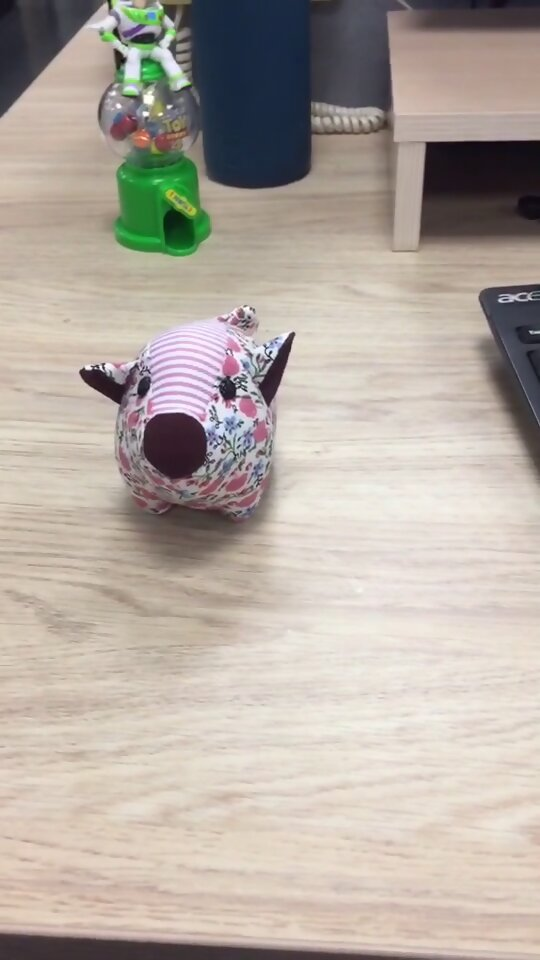pig: (77, 301, 301, 526)
